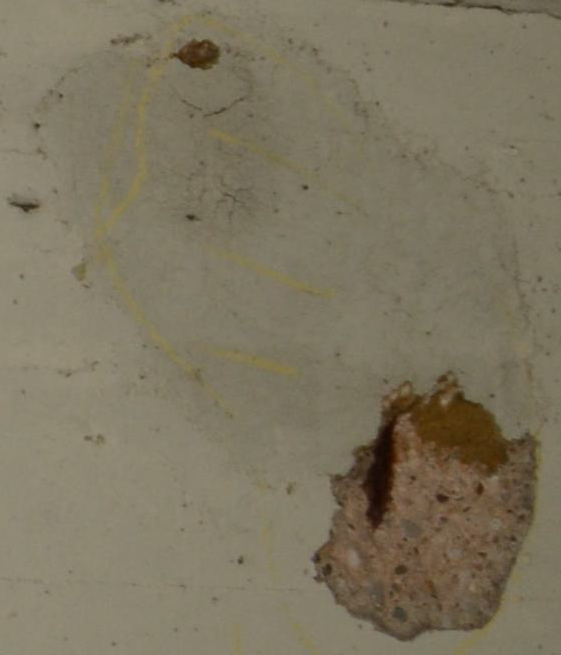Exposed reinforcement: (362, 414, 398, 533)
Spalling: (309, 369, 540, 643), (168, 37, 220, 71)
